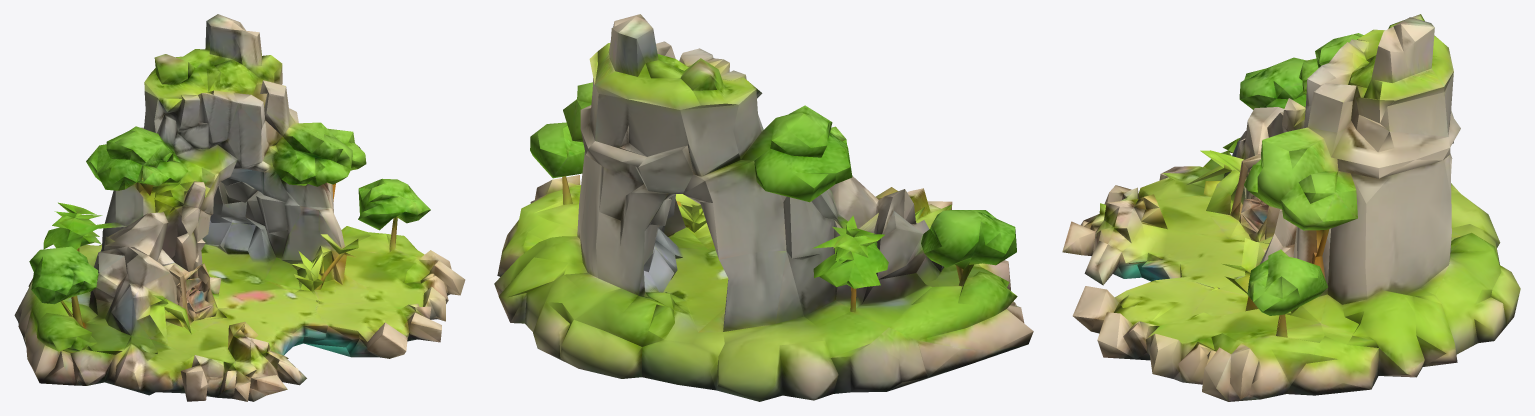
File: m2FloatingRuinBg.glb
3 views of the same model, side by side, from view 1: azimuth 30°, elevation 25°; view 2: azimuth 150°, elevation 25°; view 3: azimuth 270°, elevation 25° (orthographic). The views are drawn at different scales.
Parts seen in each view (by area): view 1: model; view 2: model; view 3: model.
Boxes of the visible parts, left/top/right/bottom form: model: left=14, top=14, right=465, bottom=401; model: left=494, top=14, right=1033, bottom=401; model: left=1062, top=14, right=1520, bottom=401.
Bounding box in the file's own units: 1.9 × 1.11 × 1.56.
1 material, 1 textured.
